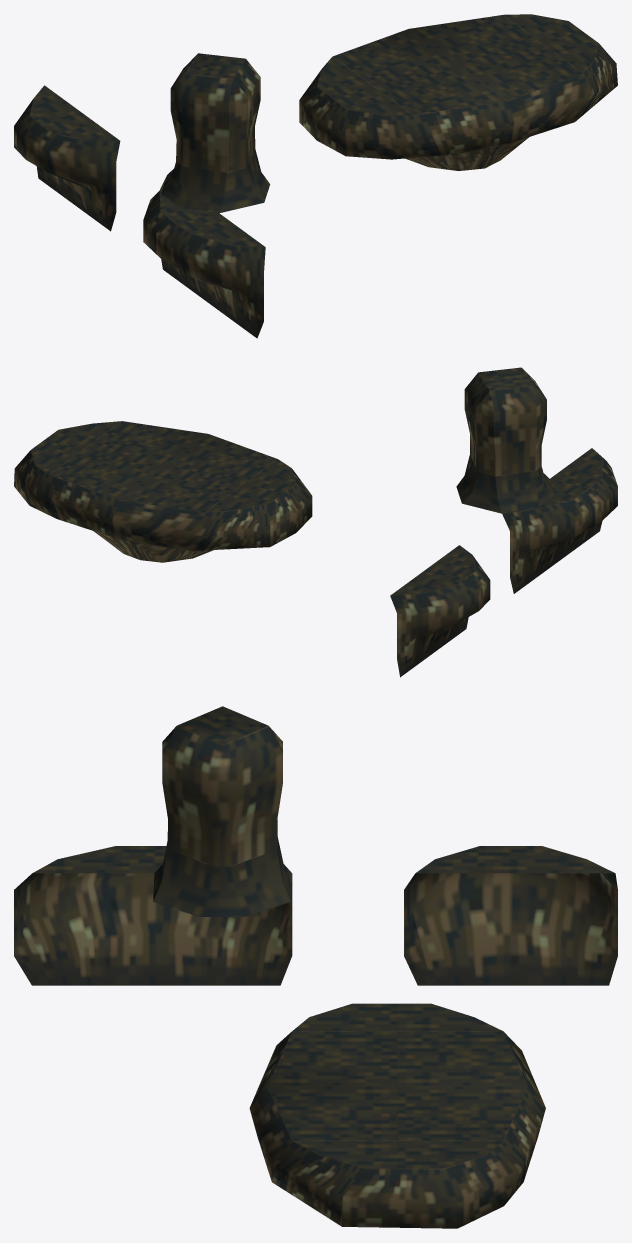
The model's file is MmeMD_D_Cave_Add_Top_LB.FBX.
3 renders of one model, top to bottom at view 1: azimuth 30°, elevation 25°; view 2: azimuth 150°, elevation 25°; view 3: azimuth 270°, elevation 25°, orthographic. The views are drawn at different scales.
Parts seen in each view (by area): view 1: MmeMD_D_Cave_Add_Top_LB, MmeMD_D_Cave_Add_Btm_M, MmeMD_D_Cave_Add_Top_L, MmeMD_D_Cave_Add_Top_M; view 2: MmeMD_D_Cave_Add_Top_LB, MmeMD_D_Cave_Add_Btm_M, MmeMD_D_Cave_Add_Top_L, MmeMD_D_Cave_Add_Top_M; view 3: MmeMD_D_Cave_Add_Top_LB, MmeMD_D_Cave_Add_Top_L, MmeMD_D_Cave_Add_Top_M, MmeMD_D_Cave_Add_Btm_M.
Part boxes in pixels (box(x1,y1,x2,y2)): MmeMD_D_Cave_Add_Top_LB: box(299, 14, 617, 170); MmeMD_D_Cave_Add_Btm_M: box(161, 53, 270, 213); MmeMD_D_Cave_Add_Top_L: box(143, 176, 265, 338); MmeMD_D_Cave_Add_Top_M: box(14, 85, 120, 231); MmeMD_D_Cave_Add_Top_LB: box(14, 421, 312, 562); MmeMD_D_Cave_Add_Btm_M: box(456, 367, 554, 513); MmeMD_D_Cave_Add_Top_L: box(502, 448, 617, 593); MmeMD_D_Cave_Add_Top_M: box(390, 545, 490, 677); MmeMD_D_Cave_Add_Top_LB: box(249, 1003, 545, 1228); MmeMD_D_Cave_Add_Top_L: box(14, 846, 292, 985); MmeMD_D_Cave_Add_Top_M: box(404, 846, 617, 985); MmeMD_D_Cave_Add_Btm_M: box(153, 706, 292, 916).
Size of the model in its own units: 623 by 237 by 465.
